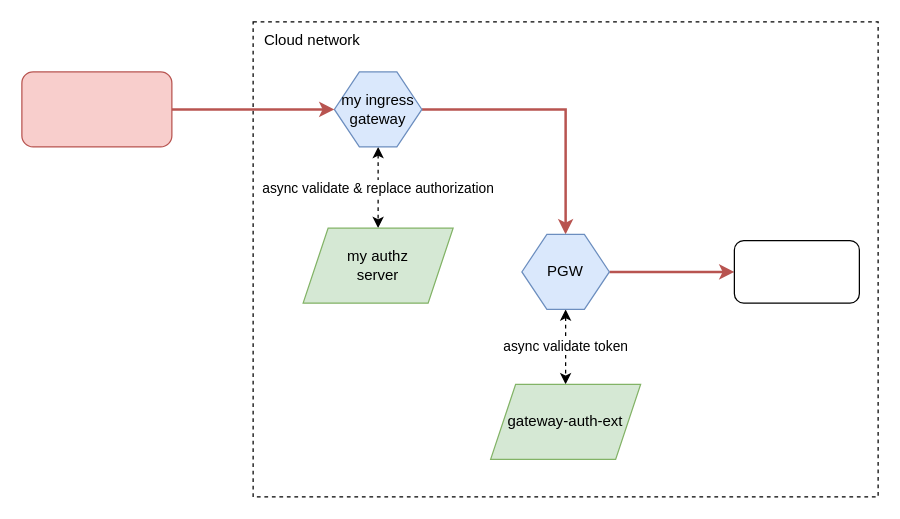
Some shapes in this 900 by 519 pixel diagram are drawn without their labels. Each missing label, with the box of its shape:
backend microservice: (733, 239, 859, 303)
External System: (21, 71, 172, 147)
